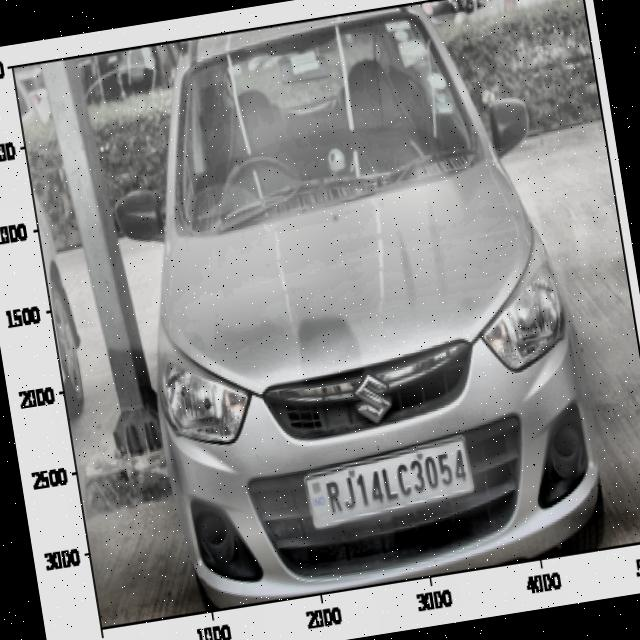license_plate: (312, 448, 474, 525)
